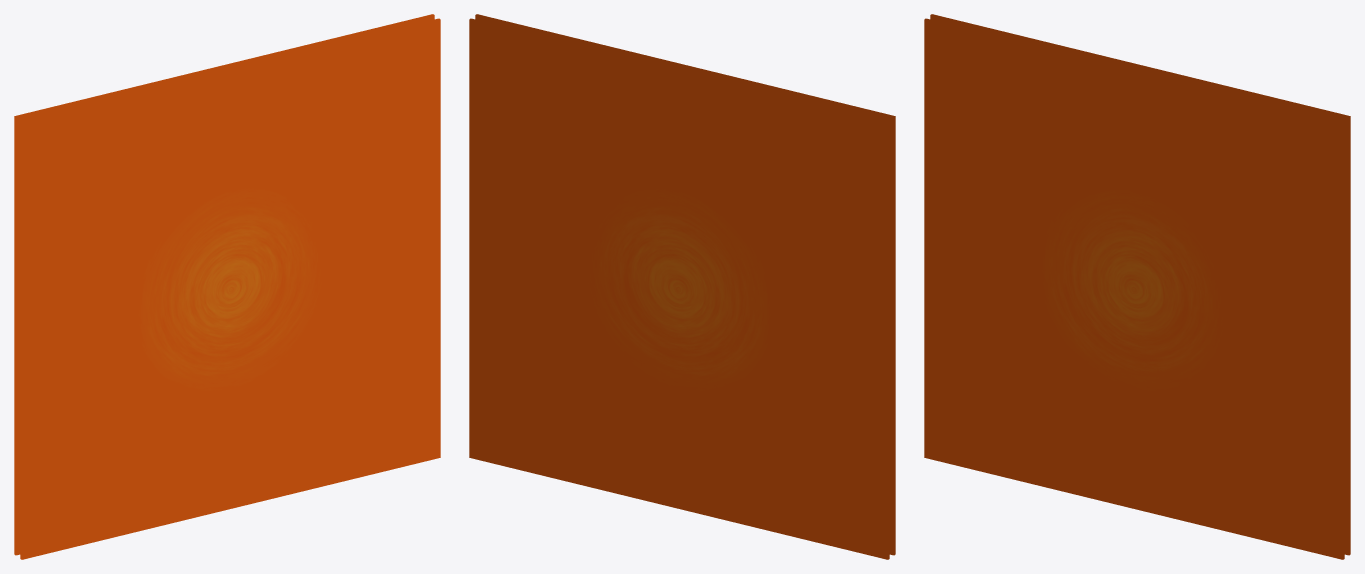
Rendered from disco_capas.obj.
3 renders of one model, left to right at view 1: azimuth 30°, elevation 25°; view 2: azimuth 150°, elevation 25°; view 3: azimuth 330°, elevation 25°, orthographic.
Parts seen in each view (by area): view 1: Gas_22_borde, Gas_05_borde, Gas_02_borde, Gas_03_borde, Gas_21_borde, Gas_04_borde, Gas_18_borde, Gas_19_borde, Gas_20_borde, Gas_01_borde; view 2: Gas_01_borde, Gas_18_borde, Gas_02_borde, Gas_20_borde, Gas_21_borde, Gas_03_borde, Gas_04_borde, Gas_05_borde, Gas_19_borde, Gas_22_borde; view 3: Gas_22_borde, Gas_05_borde, Gas_02_borde, Gas_03_borde, Gas_21_borde, Gas_04_borde, Gas_18_borde, Gas_19_borde, Gas_20_borde, Gas_01_borde.
Boxes of the visible parts, x1,y1,x2,y2 form: Gas_22_borde: (21, 19, 440, 559); Gas_05_borde: (15, 15, 434, 555); Gas_02_borde: (14, 14, 433, 554); Gas_03_borde: (15, 14, 433, 554); Gas_21_borde: (21, 19, 439, 559); Gas_04_borde: (15, 15, 433, 554); Gas_18_borde: (20, 18, 438, 558); Gas_19_borde: (20, 18, 439, 558); Gas_20_borde: (21, 19, 439, 558); Gas_01_borde: (14, 14, 432, 554); Gas_01_borde: (469, 19, 888, 559); Gas_18_borde: (475, 15, 894, 555); Gas_02_borde: (470, 19, 888, 559); Gas_20_borde: (476, 14, 894, 554); Gas_21_borde: (476, 14, 895, 554); Gas_03_borde: (470, 19, 888, 558); Gas_04_borde: (470, 18, 889, 558); Gas_05_borde: (471, 18, 889, 558); Gas_19_borde: (476, 15, 894, 554); Gas_22_borde: (477, 14, 895, 554); Gas_22_borde: (924, 19, 1343, 559); Gas_05_borde: (930, 15, 1349, 555); Gas_02_borde: (931, 14, 1350, 554); Gas_03_borde: (931, 14, 1349, 554); Gas_21_borde: (925, 19, 1343, 559); Gas_04_borde: (931, 15, 1349, 554); Gas_18_borde: (926, 18, 1344, 558); Gas_19_borde: (925, 18, 1344, 558); Gas_20_borde: (925, 19, 1343, 558); Gas_01_borde: (932, 14, 1350, 554).
Size of the model in its own units: 5.2 by 5.2 by 0.16.
Materials: 22 (22 with a texture image).
